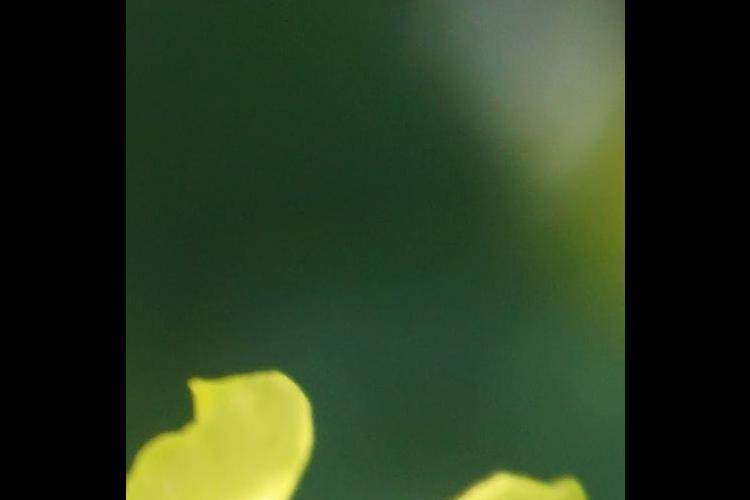yellow: (137, 374, 605, 500)
